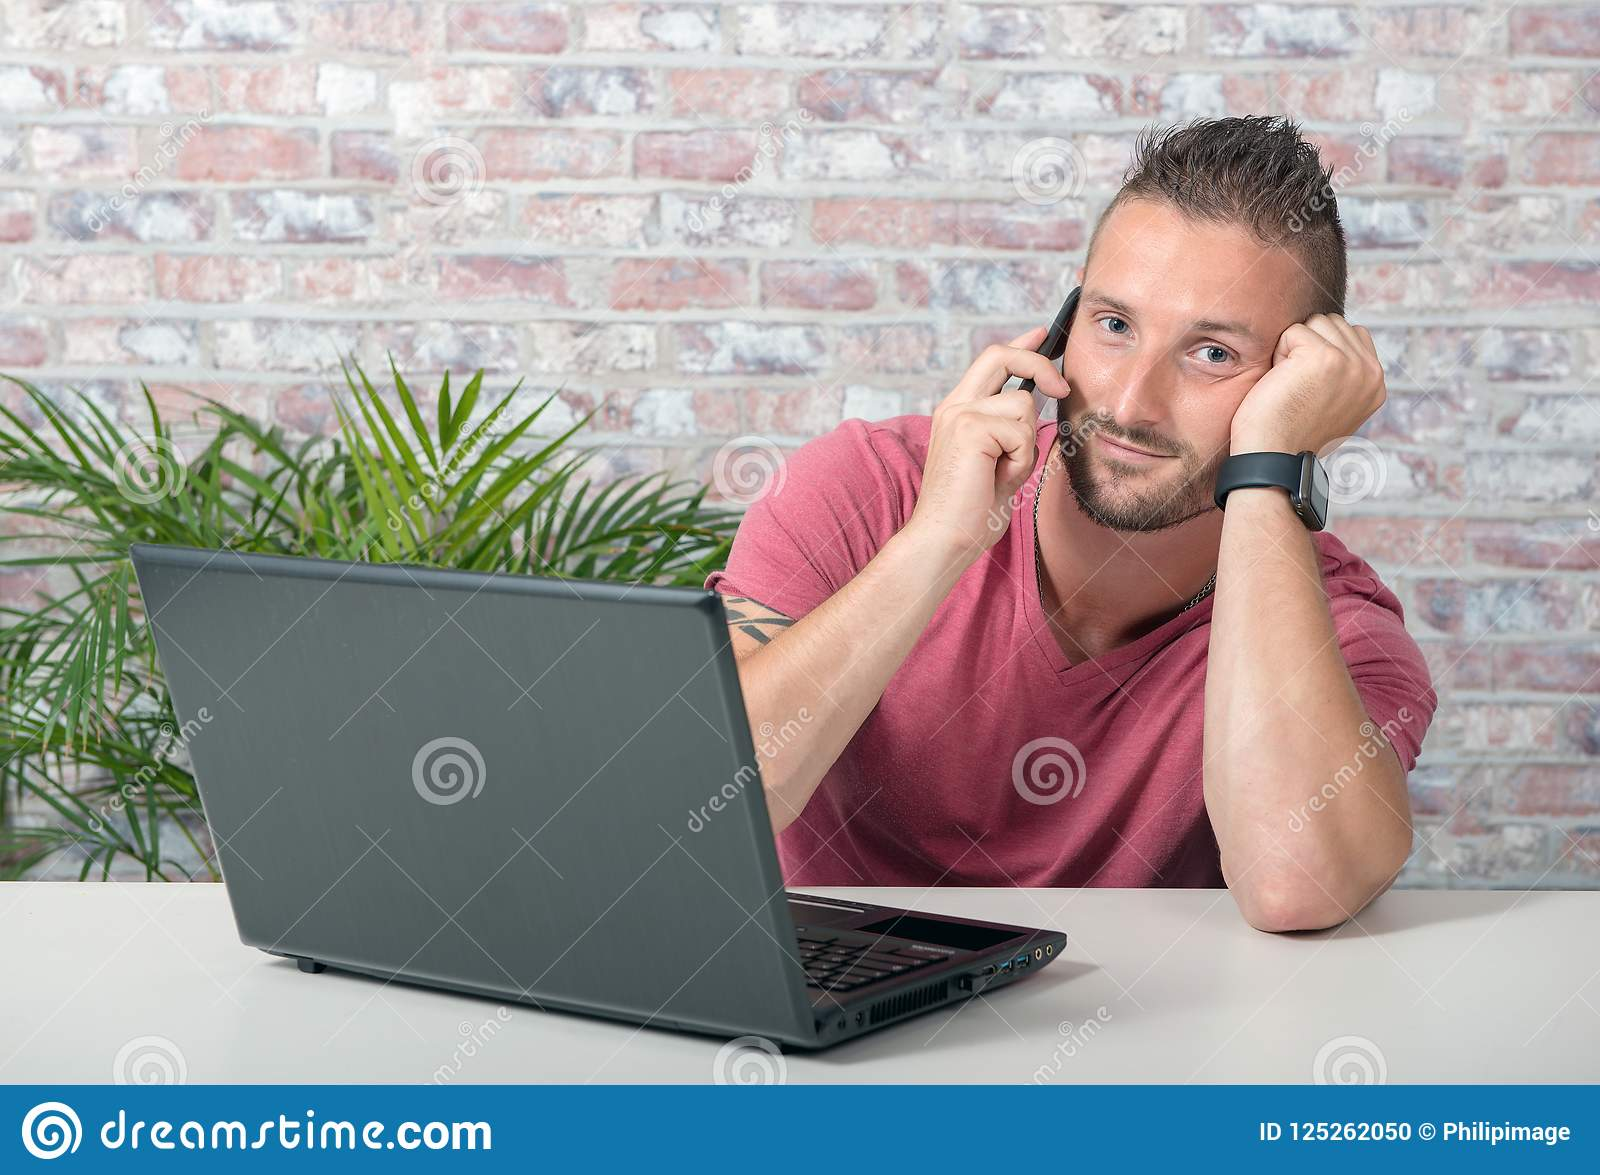phone: (1000, 286, 1078, 477)
talk: (923, 263, 1260, 574)
